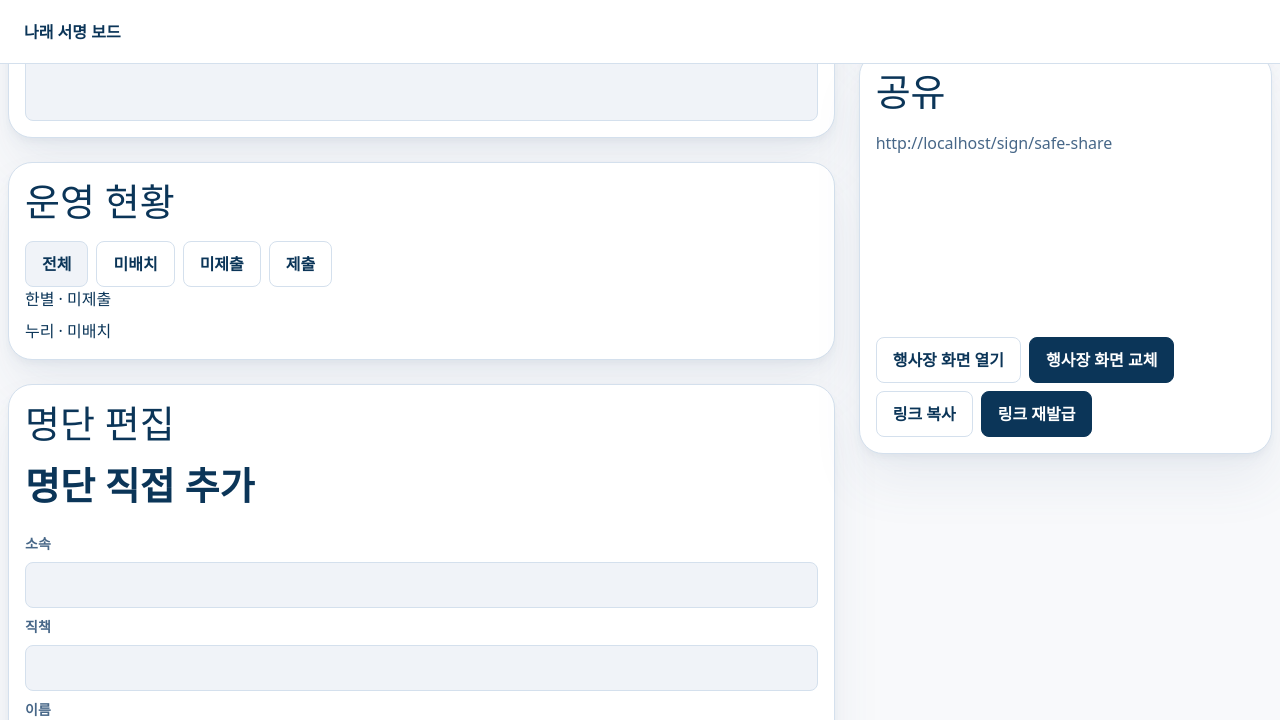
BoardEditorRoute › Given a display replacement failure When an administrator confirms replacement Then one force request runs and its toast is visible
(page scrolled)
Click the button "행사장 화면 교체". click: {"x": 1102, "y": 360}
box: [1029,337,1174,383]
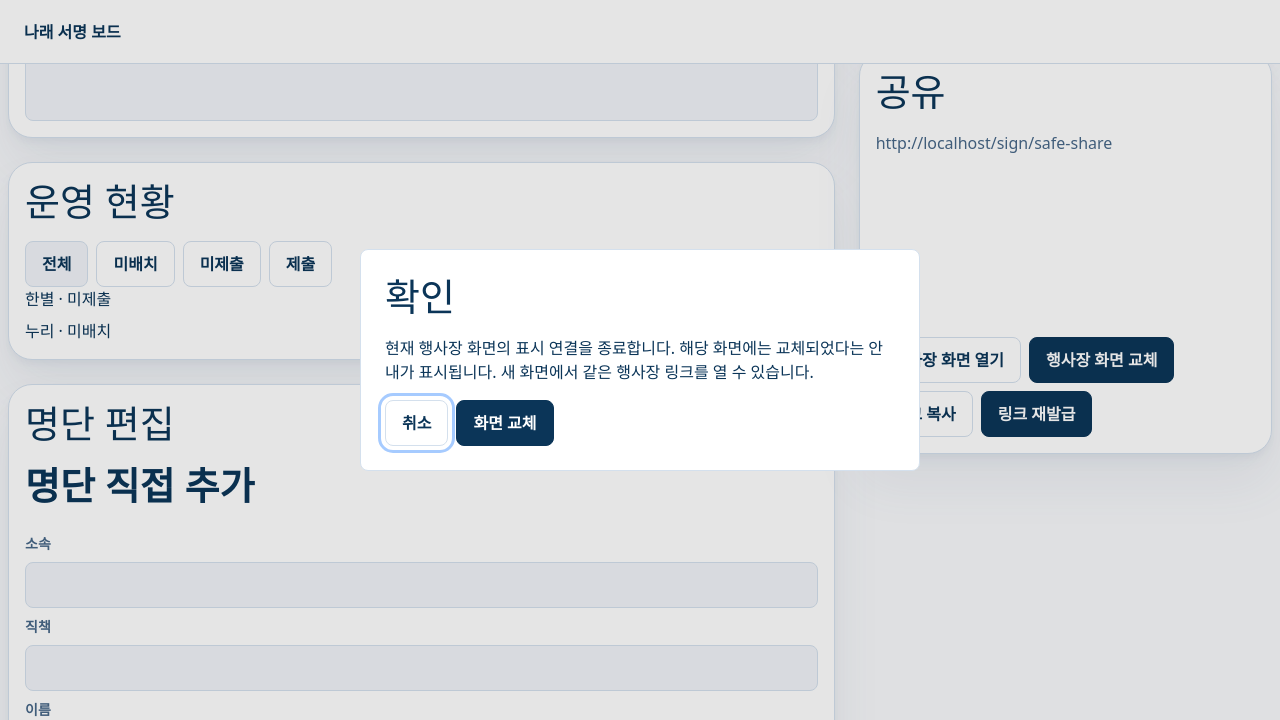
Click the button "취소". click: {"x": 417, "y": 423}
box: [385,400,448,446]
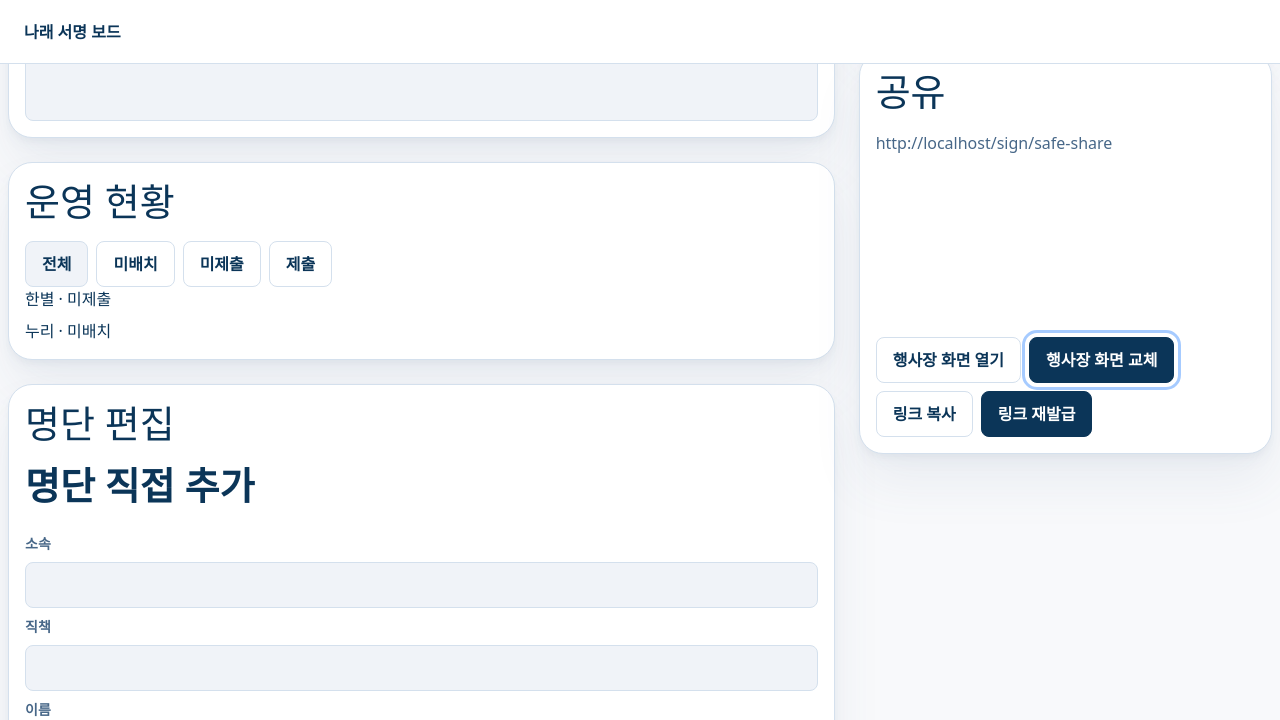
Click the button "행사장 화면 교체". click: {"x": 1102, "y": 360}
box: [1029,337,1174,383]
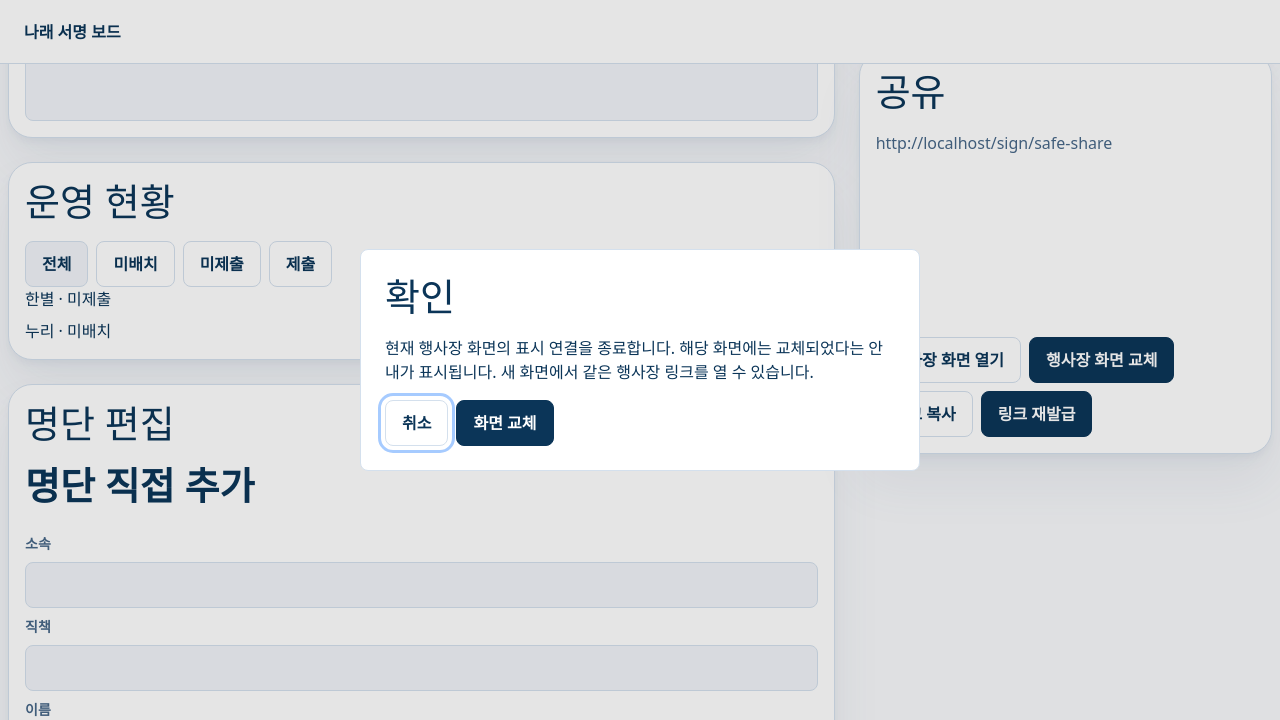
Click the button "화면 교체". click: {"x": 505, "y": 423}
box: [456,400,554,446]
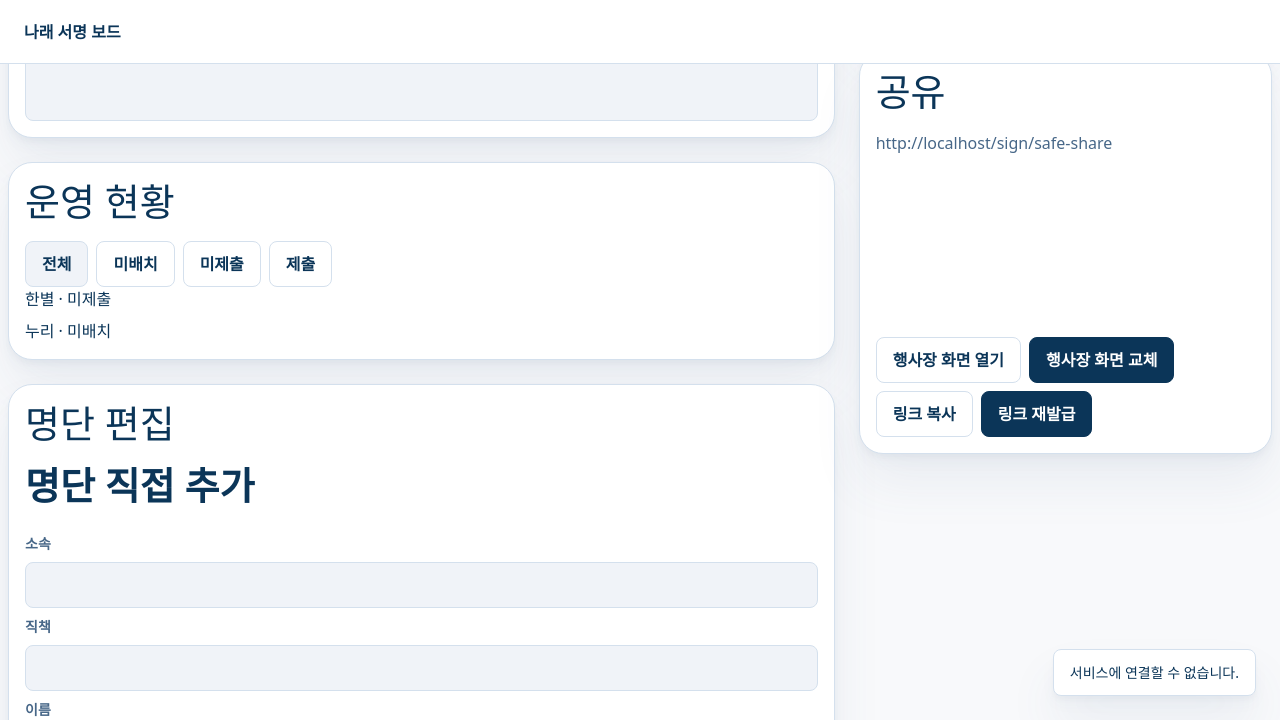
Expected: the text "서비스에 연결할 수 없습니다." is shown, [1053,649,1256,696]
